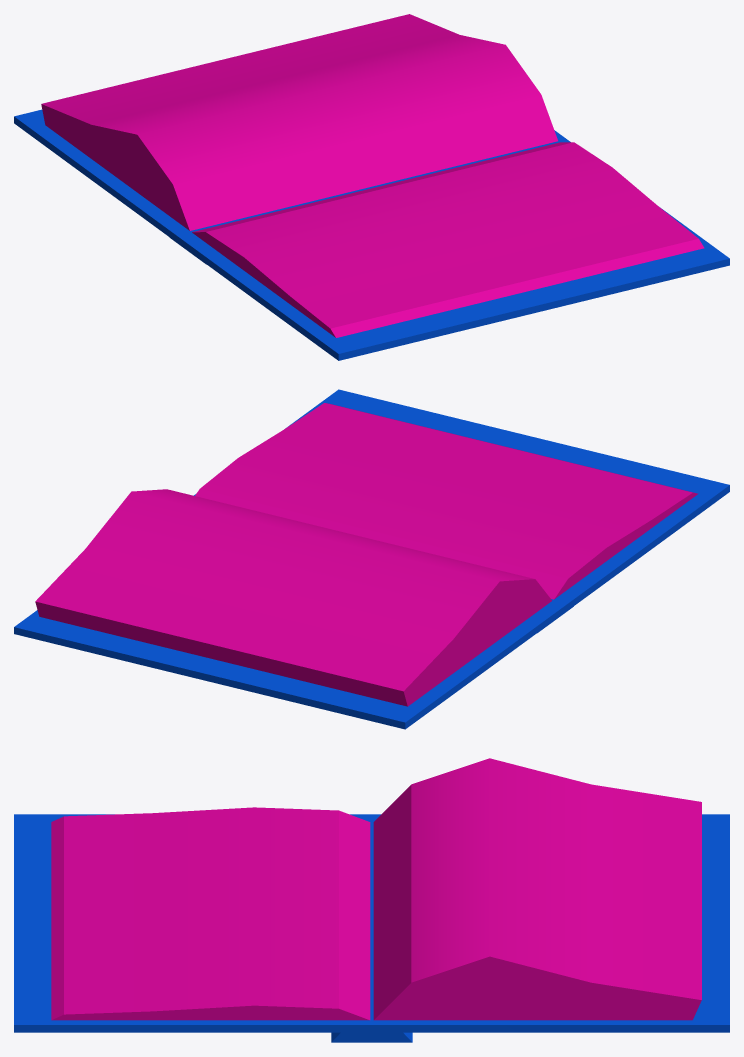
Rendered from BookOpen.fbx.
The picture shows the model from 3 angles, top to bottom: view 1: azimuth 30°, elevation 25°; view 2: azimuth 150°, elevation 25°; view 3: azimuth 270°, elevation 25°; orthographic projection. The views are drawn at different scales.
Visible parts, largest first — view 1: pasted__pCube1; view 2: pasted__pCube1; view 3: pasted__pCube1.
Boxes of the visible parts, x1,y1,x2,y2 form: pasted__pCube1: [14, 14, 729, 360]; pasted__pCube1: [14, 389, 729, 729]; pasted__pCube1: [14, 758, 729, 1042].
Size of the model in its own units: 4.42 by 0.8304 by 6.35.
